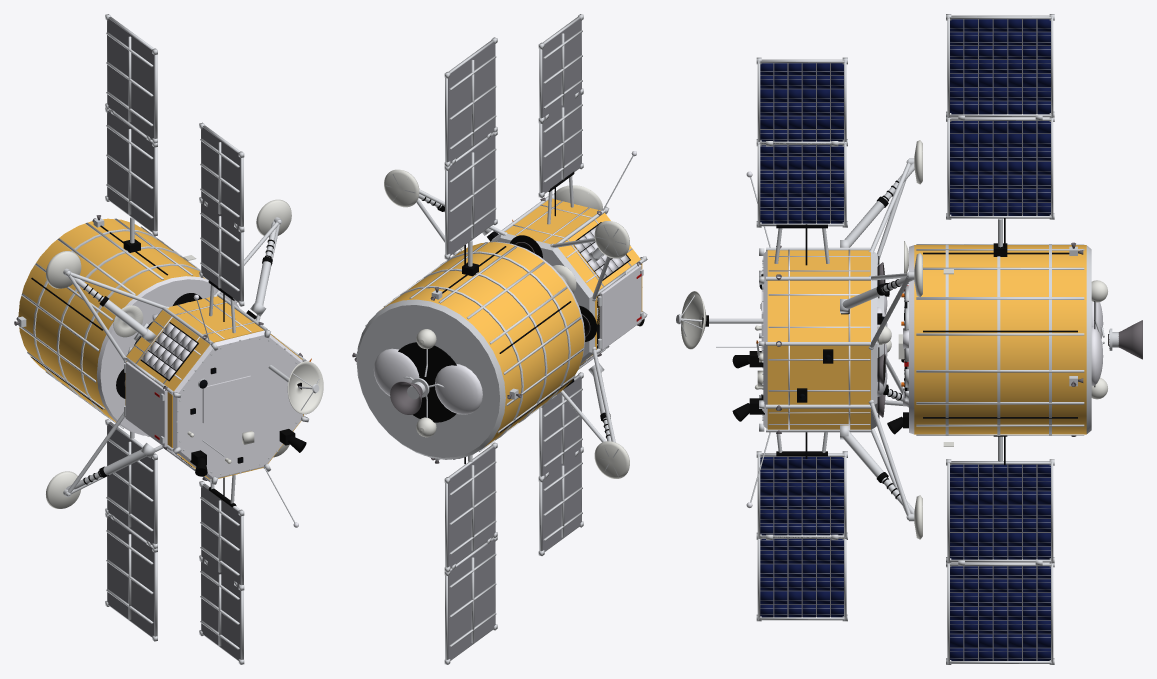
The model's file is stack_attached_B.obj.
The picture shows the model from 3 angles, left to right: view 1: azimuth 30°, elevation 25°; view 2: azimuth 150°, elevation 25°; view 3: azimuth 270°, elevation 25°; orthographic projection. The views are drawn at different scales.
Visible parts, largest first — view 1: pm_body, top_radiator, deck_body, pm_top_deck, pm_wing_port_panel1_substrate, pm_wing_port_panel0_substrate, pm_wing_starboard_panel1_substrate, pm_wing_starboard_panel0_substrate, wing_port_panel2_substrate, wing_starboard_panel1_substrate, wing_port_panel1_substrate, wing_starboard_panel2_substrate (+29 smaller); view 2: pm_body, pm_bottom_deck, pm_wing_port_panel1_substrate, pm_wing_starboard_panel0_substrate, pm_wing_starboard_panel1_substrate, pm_wing_port_panel0_substrate, deck_body, wing_port_panel2_substrate, wing_port_panel1_substrate, wing_starboard_panel2_substrate, ramp_panel, wing_starboard_panel1_substrate (+35 smaller); view 3: pm_body, deck_body, pm_wing_port_panel1_cells, pm_wing_starboard_panel1_cells, pm_wing_starboard_panel0_cells, pm_wing_port_panel0_cells, wing_starboard_panel2_cells, wing_port_panel1_cells, wing_starboard_panel1_cells, wing_port_panel2_cells, pm_stringers, corner_longerons (+33 smaller).
Boxes of the visible parts, x1,y1,x2,y2 form: pm_body: (18,218,205,422); top_radiator: (173,330,303,479); deck_body: (125,296,303,479); pm_top_deck: (96,276,239,435); pm_wing_port_panel1_substrate: (107,18,154,138); pm_wing_port_panel0_substrate: (107,111,154,231); pm_wing_starboard_panel1_substrate: (107,516,154,636); pm_wing_starboard_panel0_substrate: (107,423,154,543); wing_port_panel2_substrate: (201,127,240,227); wing_starboard_panel1_substrate: (201,485,240,585); wing_port_panel1_substrate: (201,202,240,301); wing_starboard_panel2_substrate: (201,560,240,659); pm_body: (379,242,584,447); pm_bottom_deck: (356,299,505,459); pm_wing_port_panel1_substrate: (448,42,495,162); pm_wing_starboard_panel0_substrate: (448,447,495,567); pm_wing_starboard_panel1_substrate: (448,539,495,659); pm_wing_port_panel0_substrate: (448,134,495,254); deck_body: (505,198,642,364); wing_port_panel2_substrate: (542,18,581,118); wing_port_panel1_substrate: (542,92,581,192); wing_starboard_panel2_substrate: (542,451,581,550); ramp_panel: (599,265,641,349); wing_starboard_panel1_substrate: (542,376,581,476); pm_body: (914,245,1086,434); deck_body: (767,250,870,429); pm_wing_port_panel1_cells: (950,19,1050,114); pm_wing_starboard_panel1_cells: (950,566,1050,660); pm_wing_starboard_panel0_cells: (950,464,1050,559); pm_wing_port_panel0_cells: (950,121,1050,215); wing_starboard_panel2_cells: (760,539,843,617); wing_port_panel1_cells: (760,145,843,223); wing_starboard_panel1_cells: (760,457,843,535); wing_port_panel2_cells: (760,63,843,141); pm_stringers: (916,244,1084,435); corner_longerons: (759,247,870,432).
Bounding box in the file's own units: 3.62 × 8.31 × 5.42.
